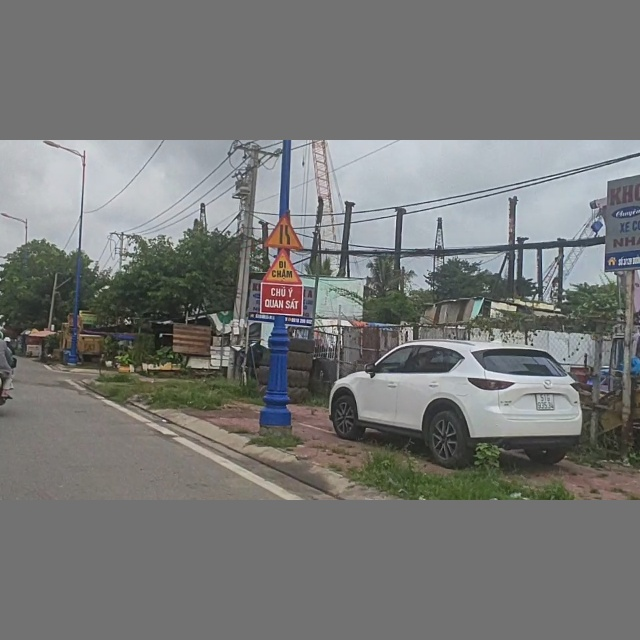W.203c: (263, 215, 304, 249)
W.245a: (263, 249, 304, 285)
